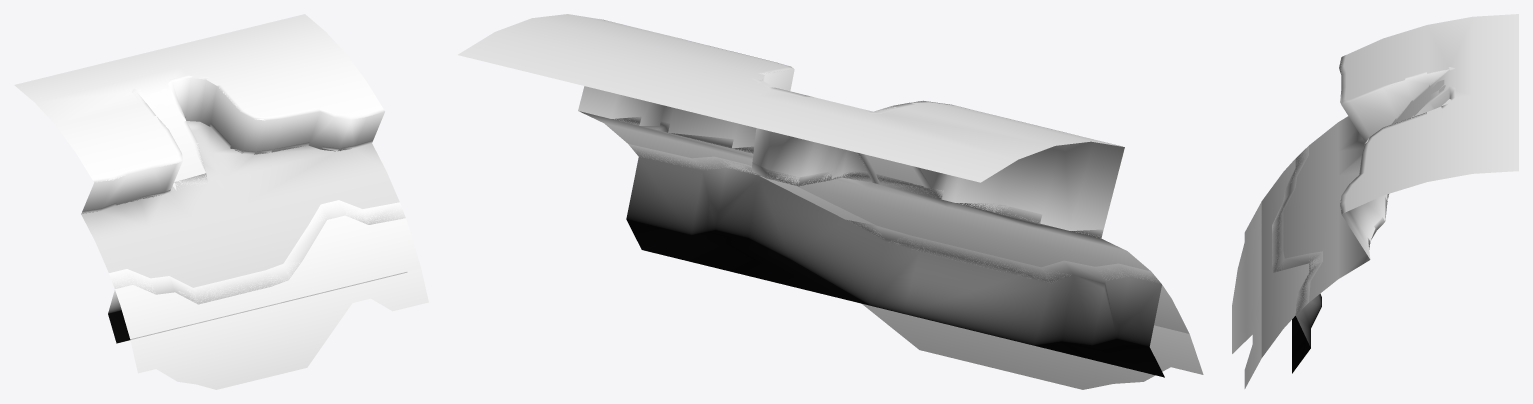
File: grd_Ms_S_2.dae
3 renders of one model, left to right at view 1: azimuth 30°, elevation 25°; view 2: azimuth 150°, elevation 25°; view 3: azimuth 270°, elevation 25°, orthographic. The views are drawn at different scales.
Visible parts, largest first — view 1: grd_Ms_S_2; view 2: grd_Ms_S_2; view 3: grd_Ms_S_2.
Part boxes in pixels (x1=…): grd_Ms_S_2: x1=14, y1=14, x2=428, y2=389; grd_Ms_S_2: x1=458, y1=14, x2=1203, y2=389; grd_Ms_S_2: x1=1232, y1=14, x2=1518, y2=388.
Bounding box in the file's own units: 512 × 383 × 395.
Materials: 7 (1 with a texture image).
